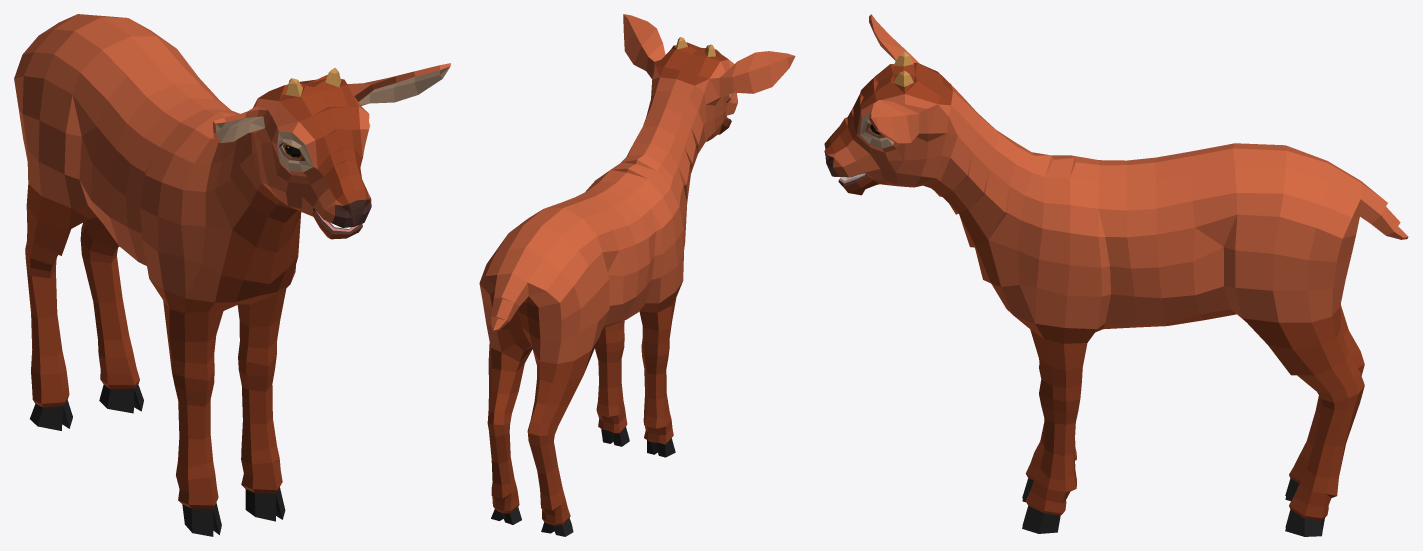
The model's file is LowPoly_Goatling_7.obj.
3 views of the same model, side by side, from view 1: azimuth 30°, elevation 25°; view 2: azimuth 150°, elevation 25°; view 3: azimuth 270°, elevation 25° (orthographic). The views are drawn at different scales.
Visible parts, largest first — view 1: Goatling_7_Cube.008; view 2: Goatling_7_Cube.008; view 3: Goatling_7_Cube.008.
Part boxes in pixels (box(x1,y1,x2,y2)): Goatling_7_Cube.008: box(14, 14, 450, 536); Goatling_7_Cube.008: box(479, 14, 795, 536); Goatling_7_Cube.008: box(824, 14, 1408, 536).
Size of the model in its own units: 0.2081 by 0.4207 by 0.4921.
